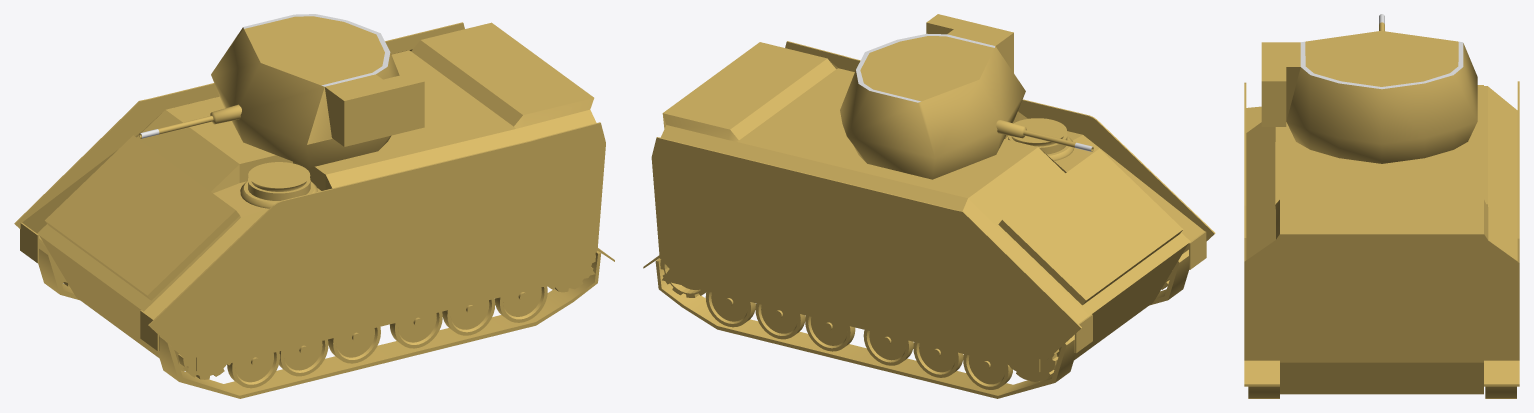
Rendered from bradley.fbx.
The picture shows the model from 3 angles, left to right: view 1: azimuth 30°, elevation 25°; view 2: azimuth 150°, elevation 25°; view 3: azimuth 270°, elevation 25°; orthographic projection. The views are drawn at different scales.
Visible parts, largest first — view 1: Hull_LOD0, Turret_LOD0, Hull.006_LOD0, Hull.004_LOD0, Hull.005_LOD0, Hull.007_LOD0, Hull.002_LOD0, Hull.003_LOD0, Hull.001_LOD0; view 2: Hull_LOD0, Turret_LOD0, Hull.011_LOD0, Hull.013_LOD0, Hull.012_LOD0, Hull.014_LOD0, Hull.010_LOD0, Hull.015_LOD0, Hull.016_LOD0; view 3: Hull_LOD0, Turret_LOD0.
Part boxes in pixels (x1,y1,x2,y2): Hull_LOD0: (14, 22, 614, 398); Turret_LOD0: (211, 14, 424, 167); Hull.006_LOD0: (442, 299, 495, 335); Hull.004_LOD0: (328, 327, 380, 363); Hull.005_LOD0: (390, 311, 442, 348); Hull.007_LOD0: (495, 286, 547, 322); Hull.002_LOD0: (227, 351, 279, 388); Hull.003_LOD0: (279, 339, 328, 376); Hull.001_LOD0: (178, 354, 230, 379); Hull_LOD0: (643, 41, 1215, 398); Turret_LOD0: (840, 14, 1025, 179); Hull.011_LOD0: (755, 303, 805, 339); Hull.013_LOD0: (863, 330, 913, 365); Hull.012_LOD0: (805, 315, 855, 351); Hull.014_LOD0: (913, 342, 963, 377); Hull.010_LOD0: (705, 291, 755, 327); Hull.015_LOD0: (963, 354, 1012, 389); Hull.016_LOD0: (1009, 349, 1058, 381); Hull_LOD0: (1244, 81, 1519, 398); Turret_LOD0: (1261, 31, 1477, 163).
Size of what is drawn, in the model's own units: 1509 by 823 by 776.
